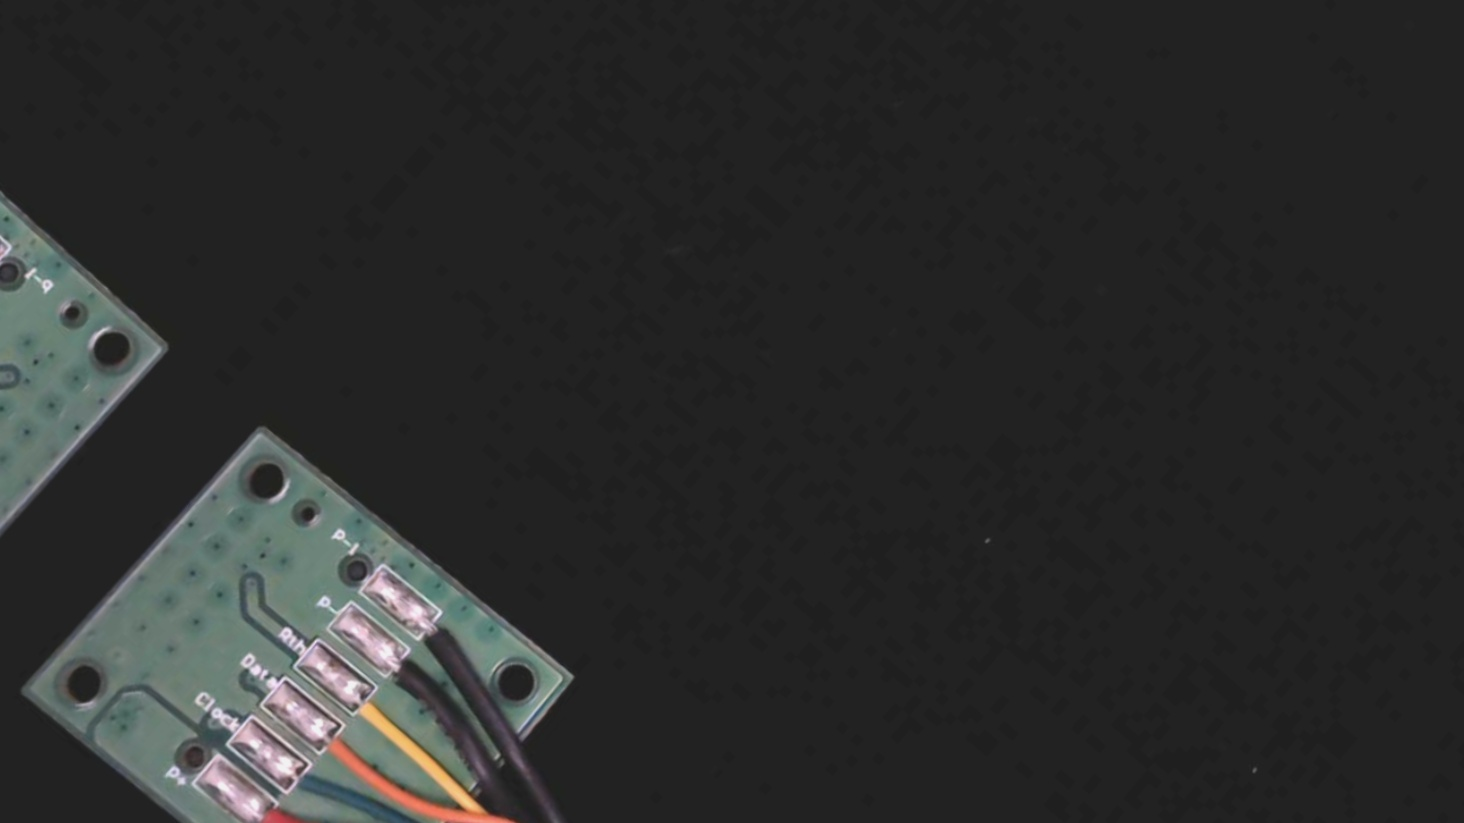Black: (366, 636, 462, 726)
Black1: (400, 596, 490, 679)
Green: (264, 748, 359, 823)
Orange: (302, 709, 396, 799)
Red: (237, 792, 333, 823)
Yellow: (331, 670, 428, 762)
